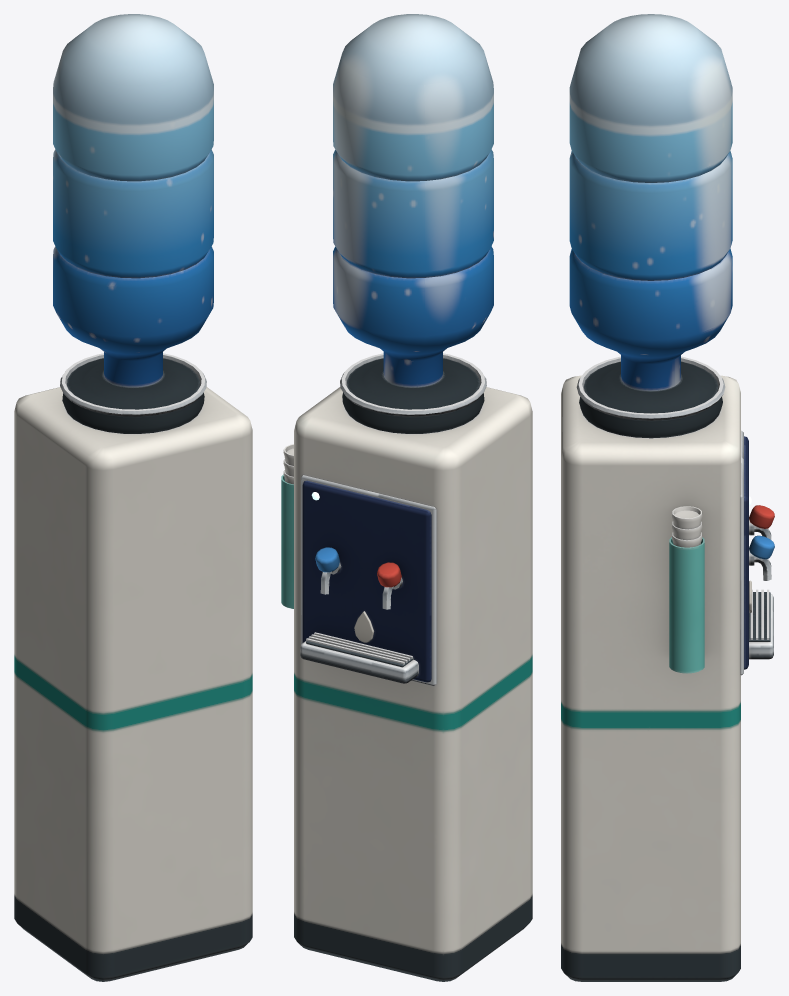
The model's file is water-cooler.fbx.
The picture shows the model from 3 angles, left to right: view 1: azimuth 30°, elevation 25°; view 2: azimuth 150°, elevation 25°; view 3: azimuth 270°, elevation 25°; orthographic projection.
Visible parts, largest first — view 1: Body; view 2: Body; view 3: Body.
Boxes of the visible parts, x1,y1,x2,y2 form: Body: [14, 14, 252, 981]; Body: [281, 14, 532, 981]; Body: [561, 14, 774, 981].
Bounding box in the file's own units: 0.378 × 1.7 × 0.3563.
